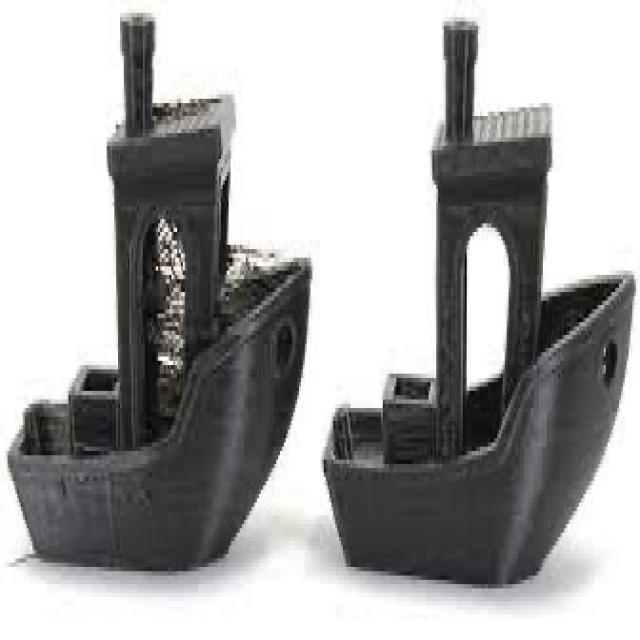Stringing: (156, 220, 184, 368)
